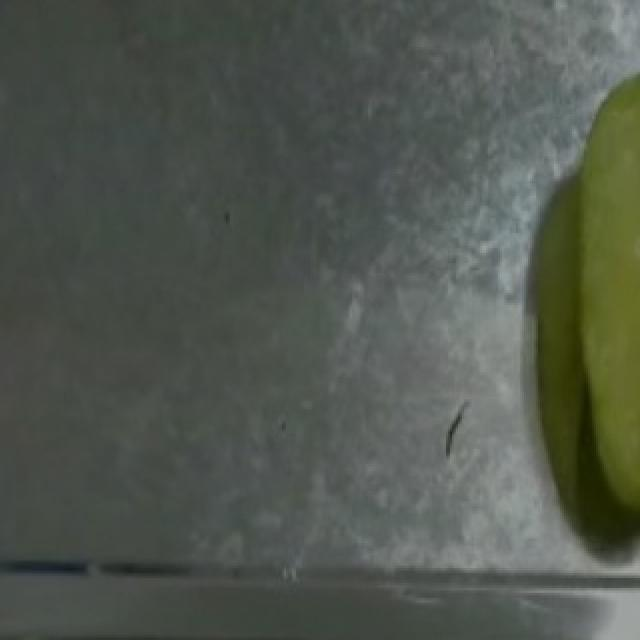fruit: (550, 203, 640, 541)
